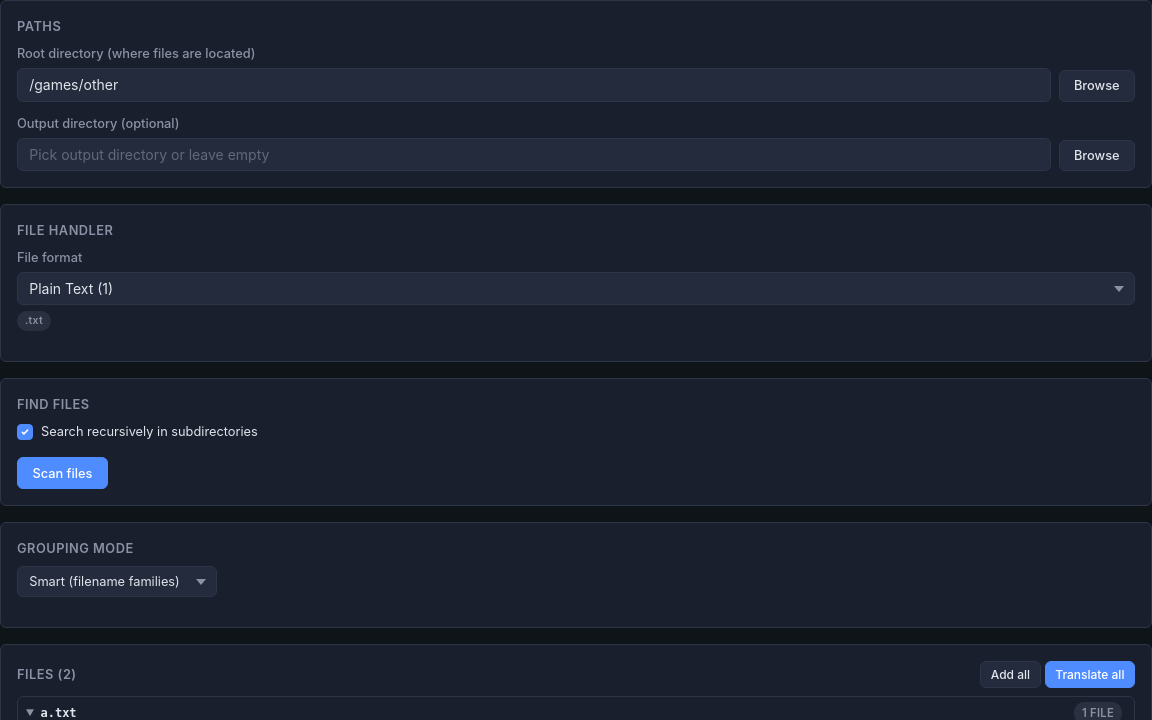
it: GenericFileSection — cross-route persistence › grouping mode change resets expansion to top-level only
This screenshot has width=1152, height=720.
expect the text "Files (2)" is shown: met, box [17,665,77,684]
Select "Flat (no grouping)" in the dropdown showing "Smart (filename families)" below "Grouping Mode": (117, 582) [17,566,217,597]
(page scrolled)
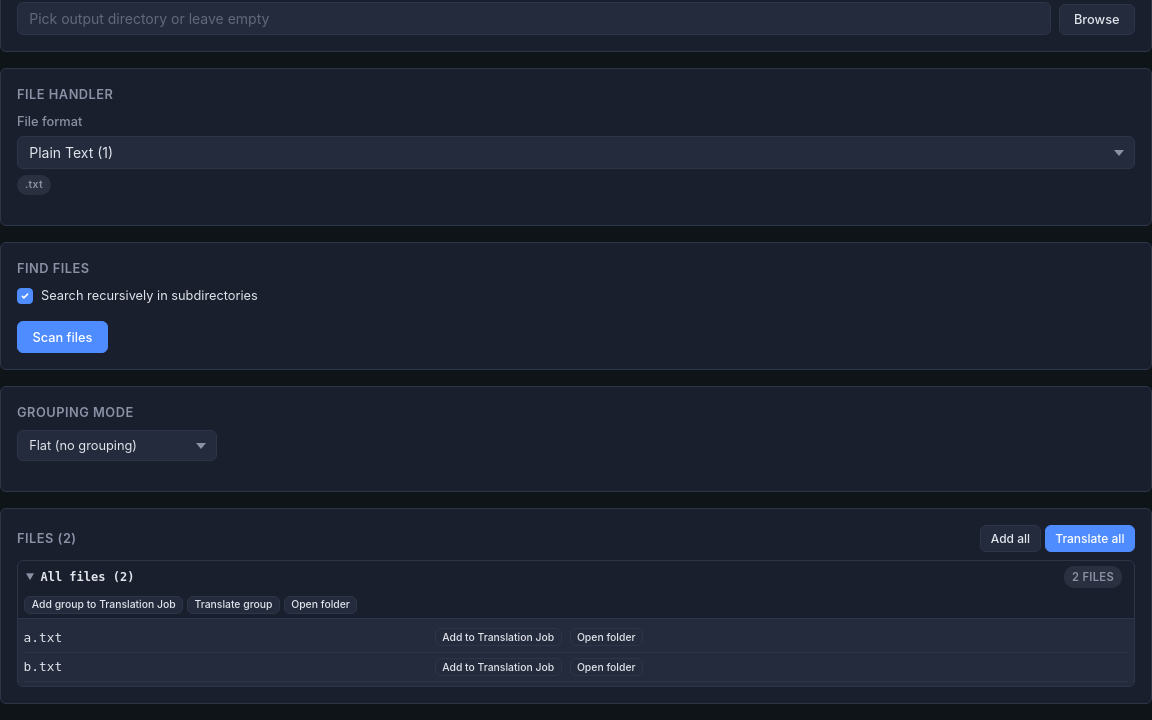
expect the text "All files (2)" is shown: met, box [40,568,134,586]
